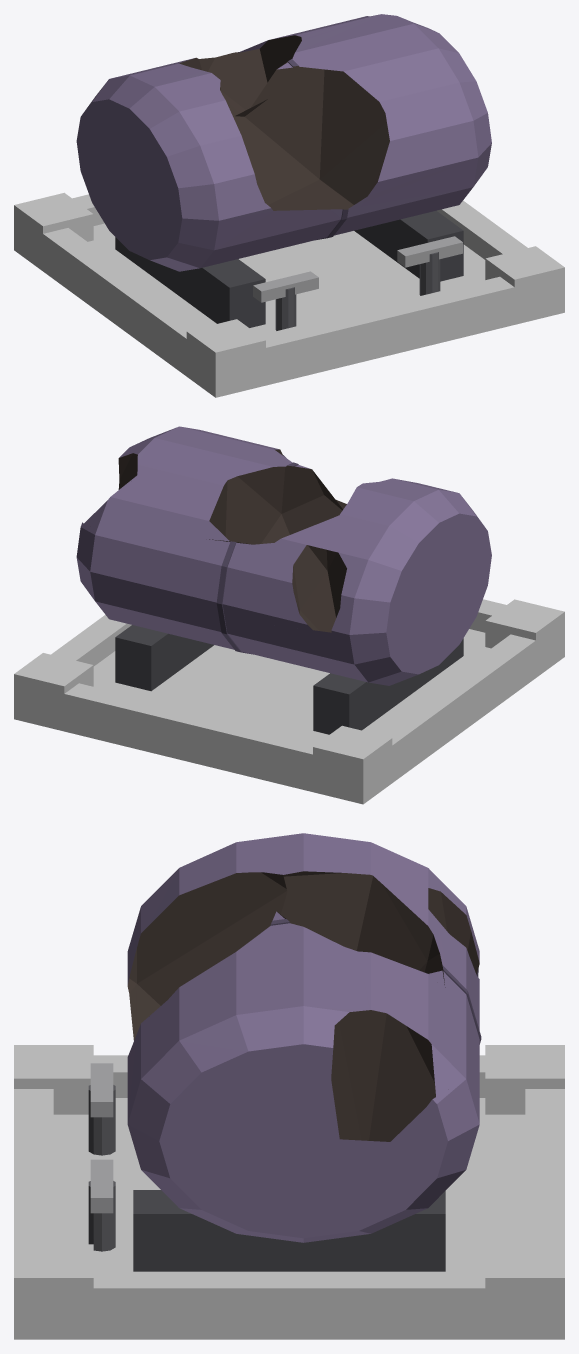
The model's file is vge_d_smallastrofueltank.obj.
3 renders of one model, top to bottom at view 1: azimuth 30°, elevation 25°; view 2: azimuth 150°, elevation 25°; view 3: azimuth 270°, elevation 25°, orthographic. The views are drawn at different scales.
Visible parts, largest first — view 1: vge_d_smallastrofueltank; view 2: vge_d_smallastrofueltank; view 3: vge_d_smallastrofueltank.
Part boxes in pixels (left/top/right/bottom): vge_d_smallastrofueltank: left=14, top=14, right=564, bottom=397; vge_d_smallastrofueltank: left=14, top=426, right=564, bottom=804; vge_d_smallastrofueltank: left=14, top=833, right=564, bottom=1339.
Size of the model in its own units: 1.94 by 1.18 by 1.94.
